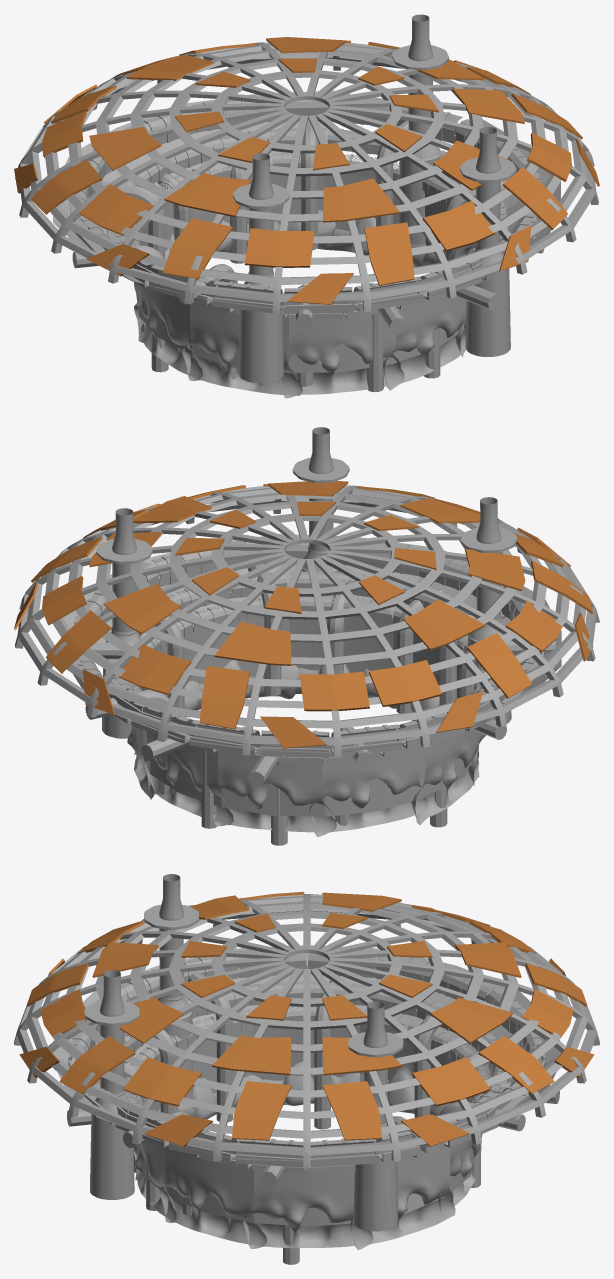
File: arena_WIP.fbx
The picture shows the model from 3 angles, top to bottom: view 1: azimuth 30°, elevation 25°; view 2: azimuth 150°, elevation 25°; view 3: azimuth 270°, elevation 25°; orthographic projection.
Visible parts, largest first — view 1: pCube52, polySurface4, polySurface6, pSphere6, pSphere7, pSphere8, polySurface3, pSphere5, polySurface8, pSphere9, pCylinder21, pCylinder22 (+35 smaller); view 2: pCube52, polySurface7, polySurface8, pSphere10, pSphere1, polySurface5, pSphere9, pSphere2, pSphere8, polySurface6, pPipe17, pPipe18 (+35 smaller); view 3: pCube52, polySurface1, polySurface2, pSphere4, pSphere3, pPipe24, polySurface5, pSphere2, pSphere5, polySurface3, pPipe23, pCylinder21 (+34 smaller).
Part boxes in pixels (x1=…): pCube52: x1=69, y1=92, x2=539, y2=314; polySurface4: x1=244, y1=143, x2=414, y2=304; polySurface6: x1=79, y1=137, x2=269, y2=279; pSphere6: x1=312, y1=112, x2=524, y2=311; pSphere7: x1=187, y1=115, x2=367, y2=313; pSphere8: x1=53, y1=111, x2=296, y2=303; polySurface3: x1=375, y1=124, x2=567, y2=271; pSphere5: x1=324, y1=107, x2=598, y2=273; polySurface8: x1=14, y1=111, x2=224, y2=214; pSphere9: x1=15, y1=104, x2=286, y2=252; pCylinder21: x1=460, y1=127, x2=516, y2=356; pCylinder22: x1=233, y1=153, x2=289, y2=383; pCube52: x1=73, y1=535, x2=544, y2=757; polySurface7: x1=199, y1=586, x2=369, y2=748; polySurface8: x1=359, y1=575, x2=531, y2=732; pSphere10: x1=246, y1=558, x2=426, y2=757; pSphere1: x1=89, y1=556, x2=302, y2=755; polySurface5: x1=46, y1=567, x2=238, y2=714; pSphere9: x1=317, y1=554, x2=561, y2=747; pSphere2: x1=15, y1=550, x2=289, y2=716; pSphere8: x1=327, y1=547, x2=599, y2=695; polySurface6: x1=394, y1=548, x2=593, y2=661; pPipe17: x1=208, y1=754, x2=336, y2=832; pPipe18: x1=309, y1=747, x2=428, y2=836; pCube52: x1=68, y1=945, x2=545, y2=1167; polySurface1: x1=123, y1=995, x2=291, y2=1146; polySurface2: x1=322, y1=995, x2=490, y2=1146; pSphere4: x1=135, y1=967, x2=306, y2=1167; pSphere3: x1=307, y1=967, x2=478, y2=1167; pPipe24: x1=243, y1=1170, x2=373, y2=1248; polySurface5: x1=379, y1=974, x2=594, y2=1094; pSphere2: x1=321, y1=962, x2=585, y2=1143; pSphere5: x1=28, y1=962, x2=292, y2=1143; polySurface3: x1=19, y1=974, x2=234, y2=1094; pPipe23: x1=159, y1=1146, x2=266, y2=1246; pCylinder21: x1=84, y1=970, x2=139, y2=1199.
Bounding box in the file's own units: 68.3 × 33.51 × 68.3.
